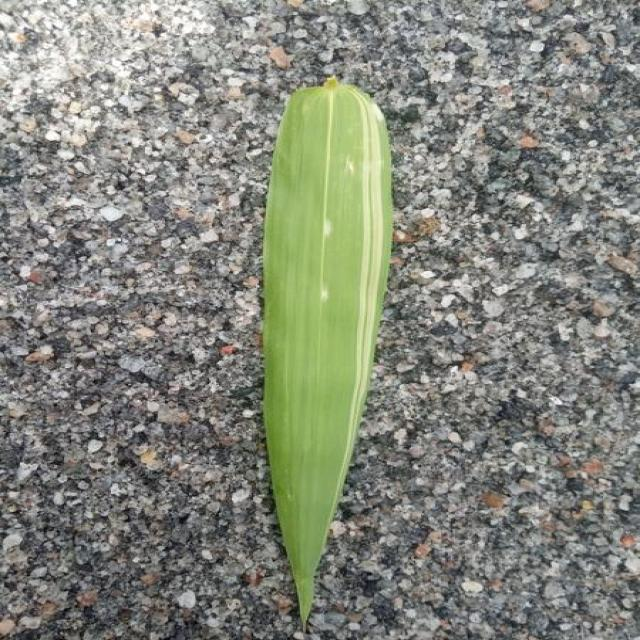Bamboo: (263, 78, 392, 622)
